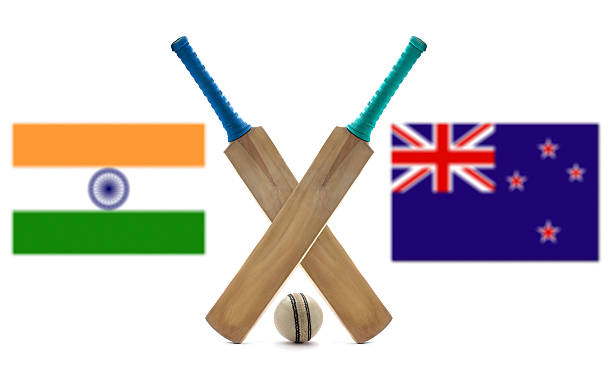bottom left: (345, 325, 374, 354), (203, 308, 223, 328)
bottom right: (228, 331, 255, 358), (375, 306, 400, 331)
top left: (326, 115, 351, 140), (217, 141, 237, 161)
top right: (361, 137, 385, 161), (253, 115, 274, 136)
